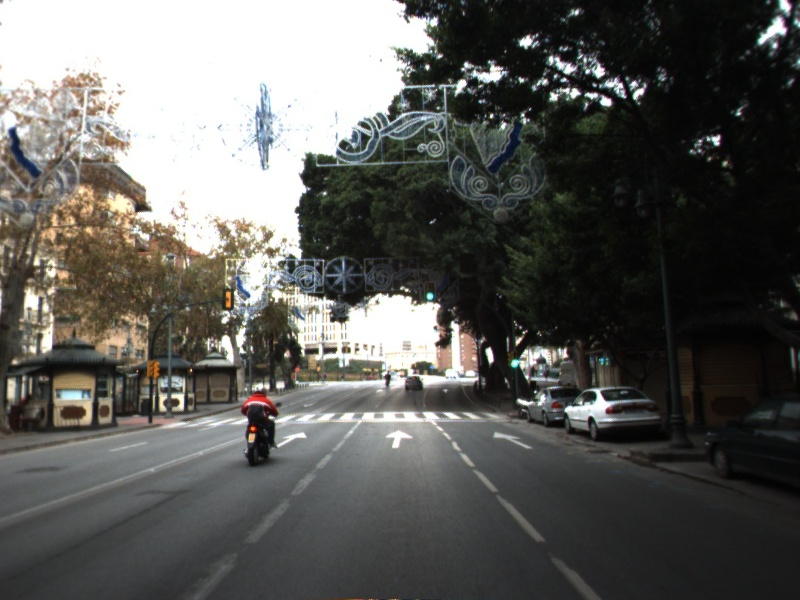STRAIGHT: (491, 429, 535, 451), (268, 430, 309, 451), (383, 428, 415, 450)
